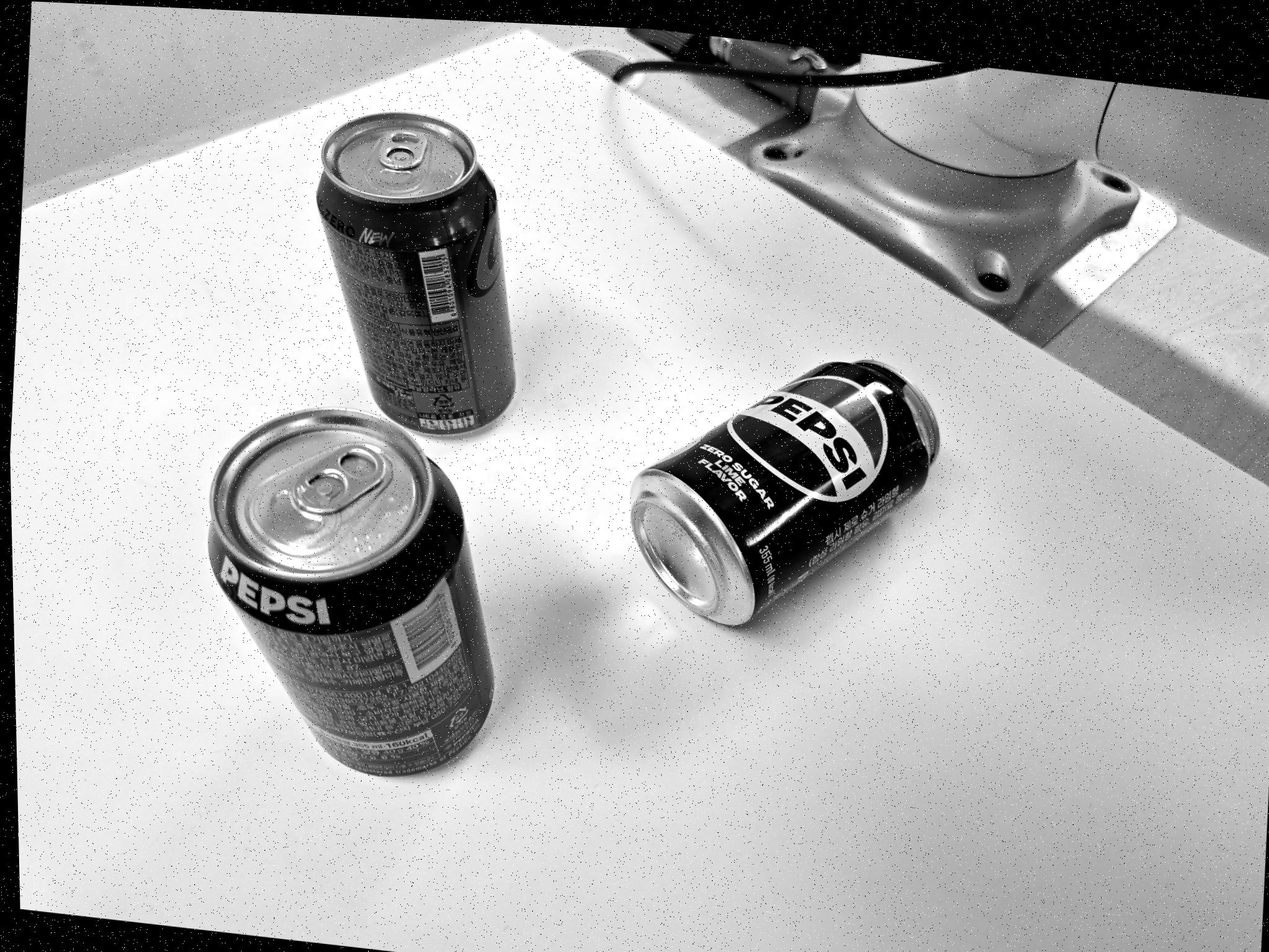can_coke_zero: (316, 113, 515, 434)
can_pepsi: (208, 407, 493, 775)
can_pepsi_zero: (631, 360, 940, 625)
